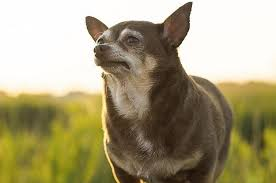chihuahua: (85, 1, 233, 183)
